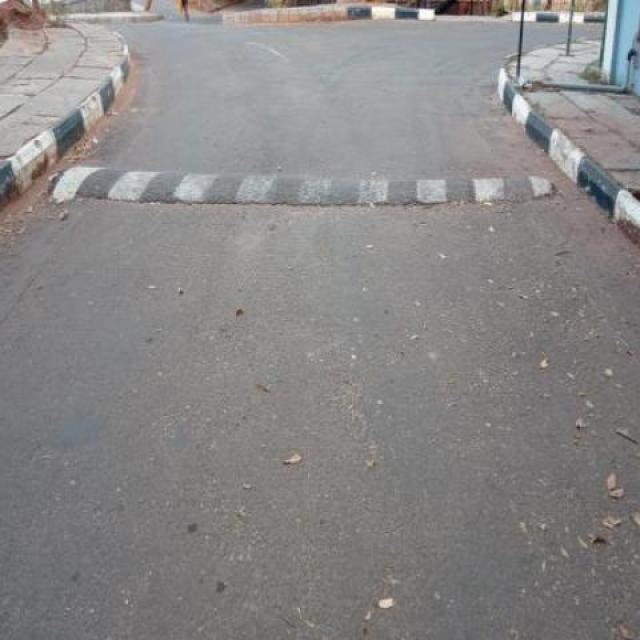Speed Bump: (51, 159, 558, 206)
